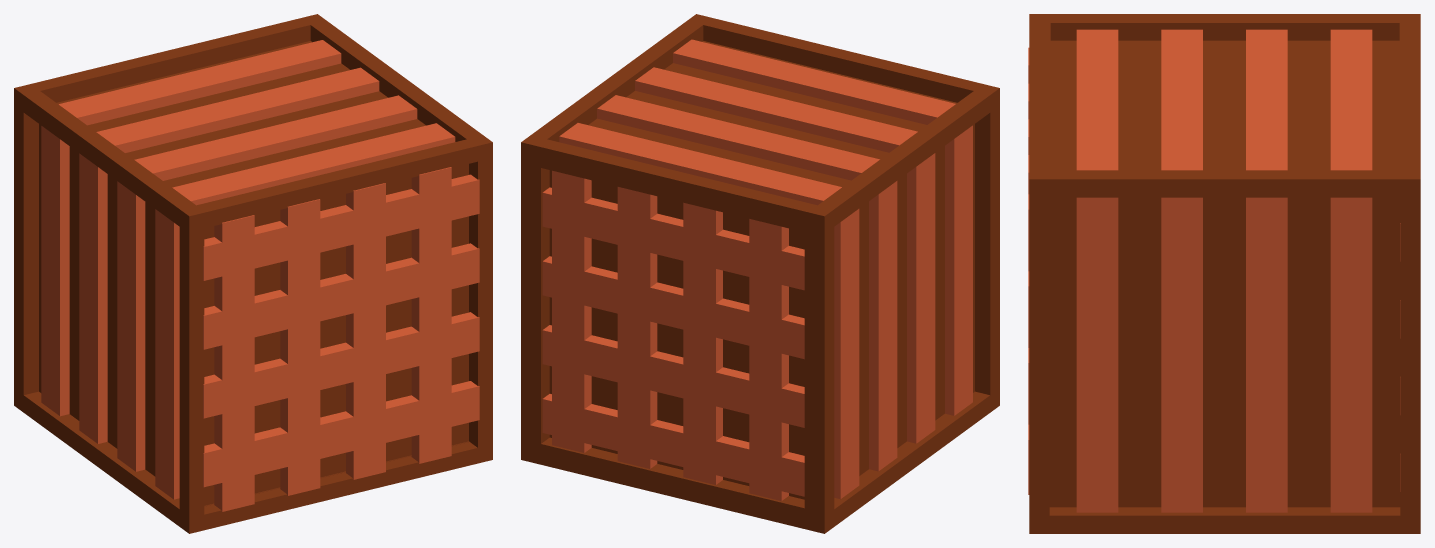
3 renders of one model, left to right at view 1: azimuth 30°, elevation 25°; view 2: azimuth 150°, elevation 25°; view 3: azimuth 270°, elevation 25°, orthographic. The views are drawn at different scales.
Parts seen in each view (by area): view 1: Cube, Cube.003, Cube.004; view 2: Cube, Cube.003, Cube.004; view 3: Cube, Cube.003, Cube.004.
Part boxes in pixels (x1=…): Cube: x1=14, y1=14, x2=492, y2=533; Cube.003: x1=59, y1=40, x2=455, y2=511; Cube.004: x1=41, y1=90, x2=479, y2=499; Cube: x1=521, y1=14, x2=999, y2=533; Cube.003: x1=552, y1=39, x2=955, y2=500; Cube.004: x1=542, y1=117, x2=972, y2=499; Cube: x1=1029, y1=14, x2=1420, y2=533; Cube.003: x1=1028, y1=29, x2=1372, y2=512; Cube.004: x1=1028, y1=194, x2=1400, y2=491.
Size of the model in its own units: 200 by 200 by 201.
